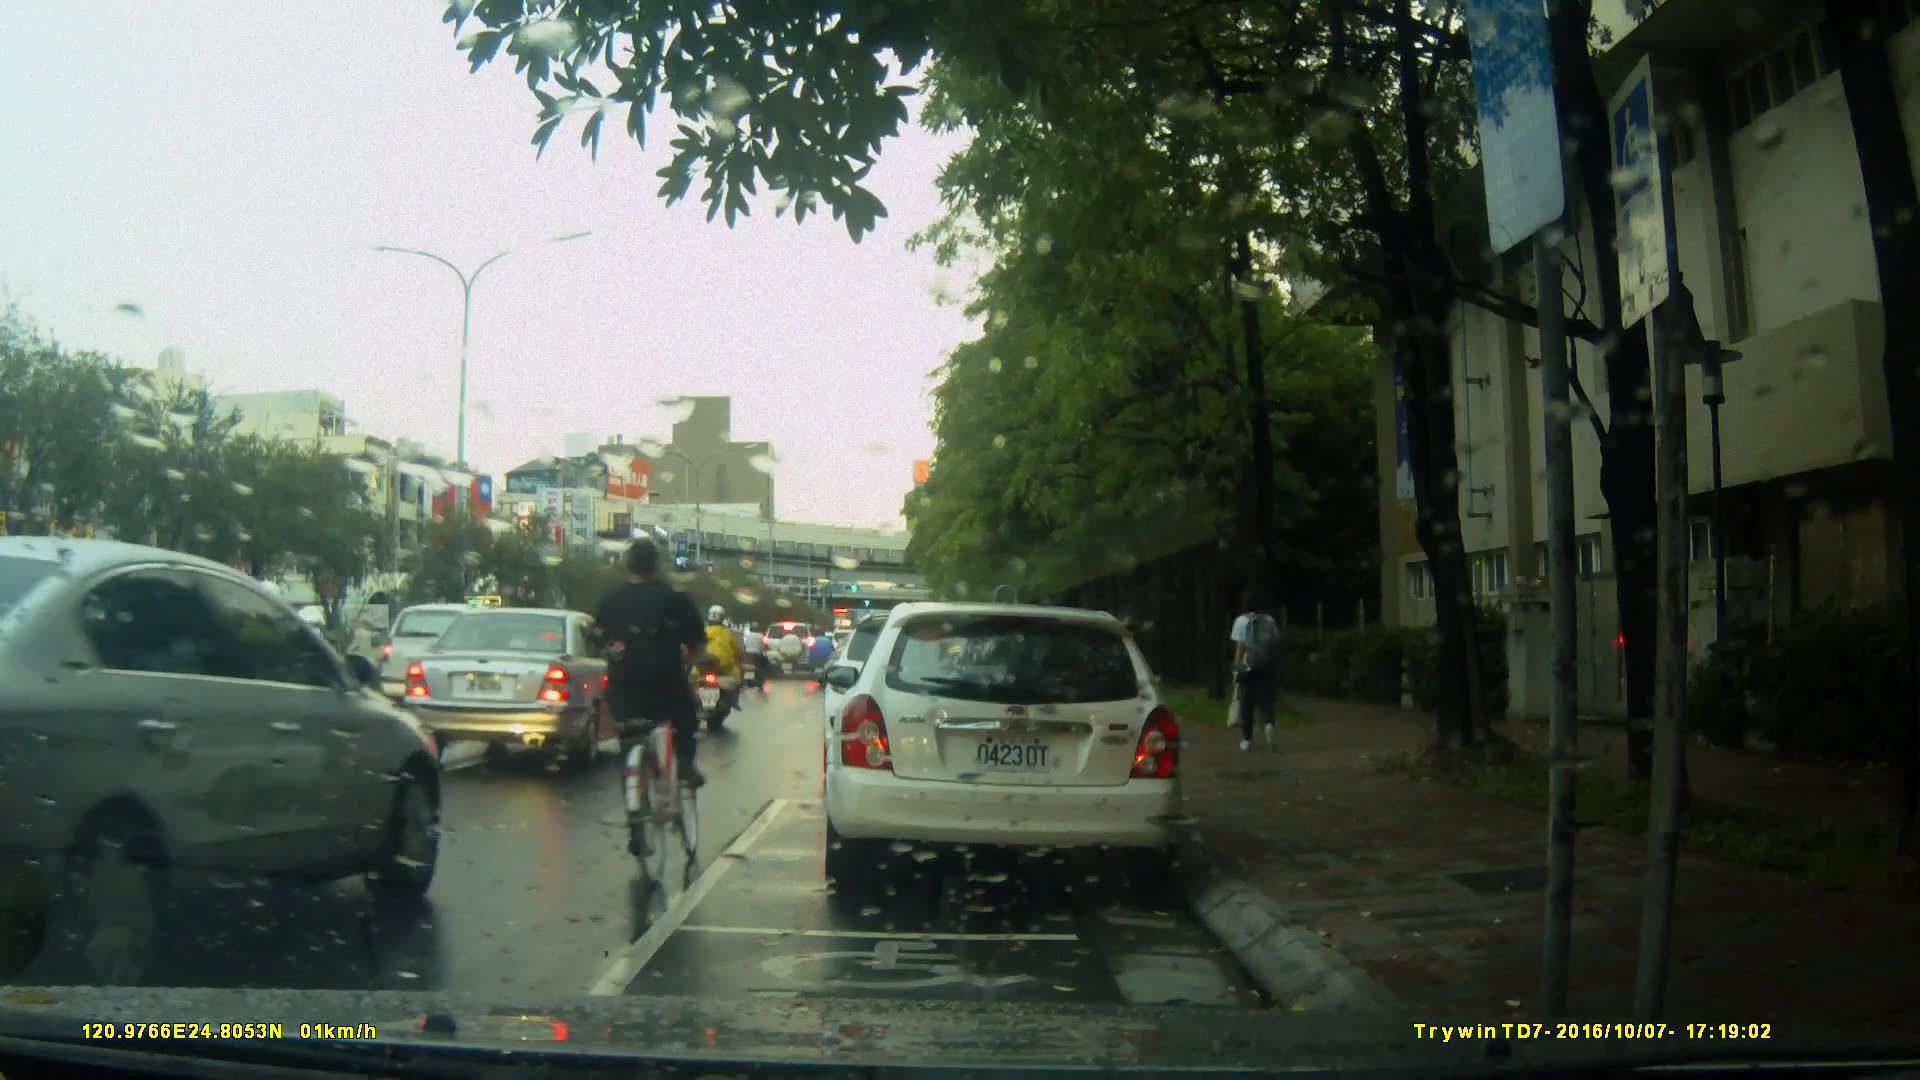pedestrian: (1230, 580, 1291, 755)
rider: (595, 527, 714, 895), (688, 599, 749, 739), (737, 618, 768, 701), (811, 620, 838, 697)
vehicle: (1, 534, 443, 985), (820, 602, 1188, 898), (399, 606, 651, 771), (376, 604, 557, 720)
